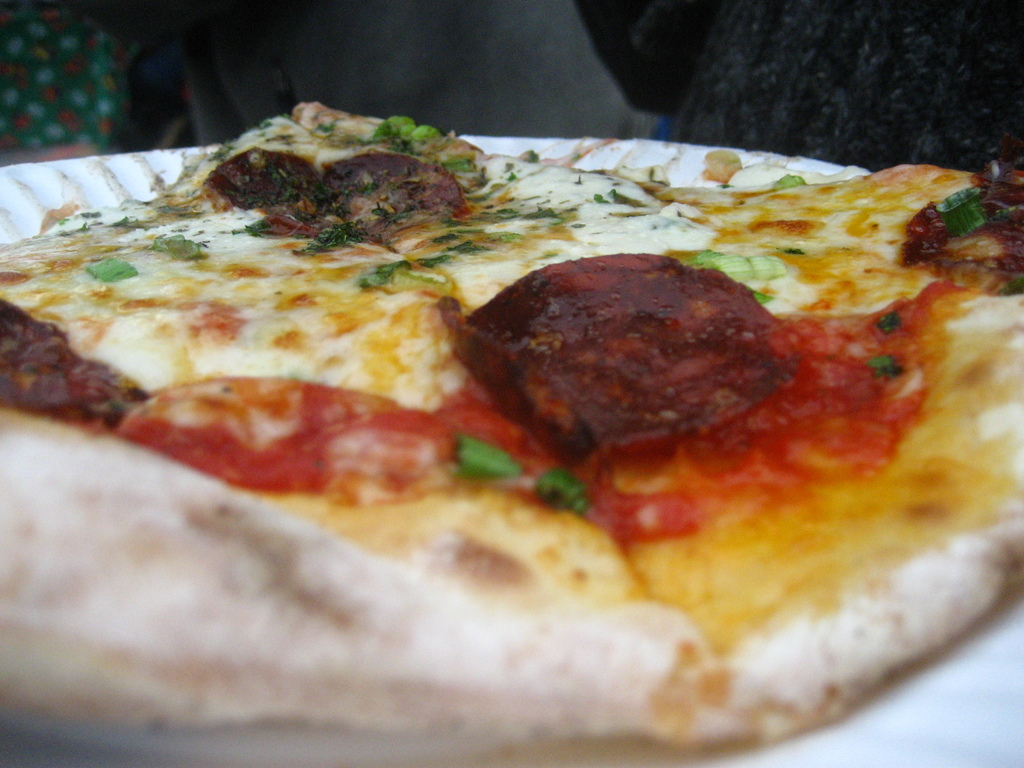Pizza: (494, 272, 1023, 760), (129, 360, 737, 757), (279, 92, 800, 302), (10, 164, 474, 353), (683, 148, 1023, 282)
